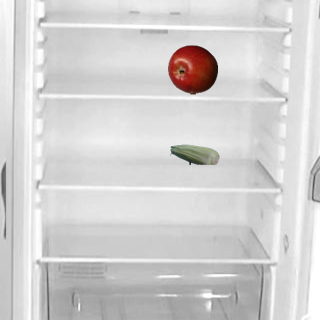Apple Braeburn: (167, 44, 217, 94)
Corn Husk: (169, 129, 219, 179)
